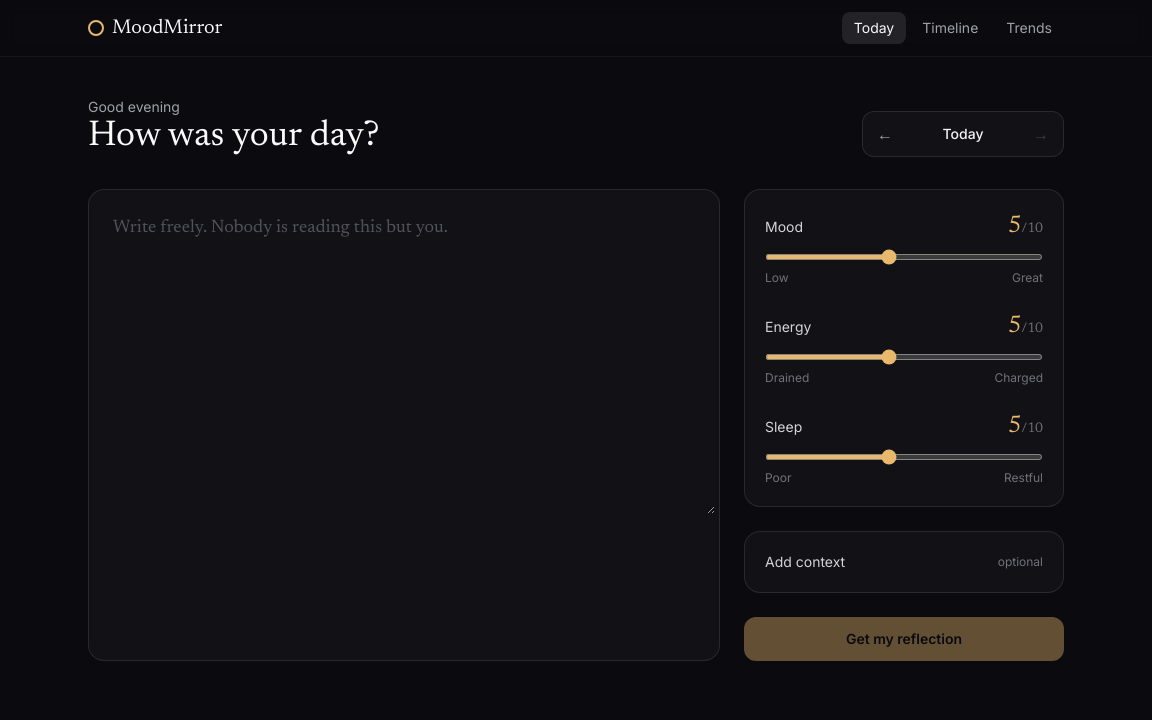
submit is disabled until something is written
This screenshot has width=1152, height=720.
Expected: the button "Get my reflection" is disabled, x1=744 y1=617 x2=1064 y2=661
Type "hello" into the text box named "Journal entry" at (404, 354), box x1=93 y1=194 x2=715 y2=514
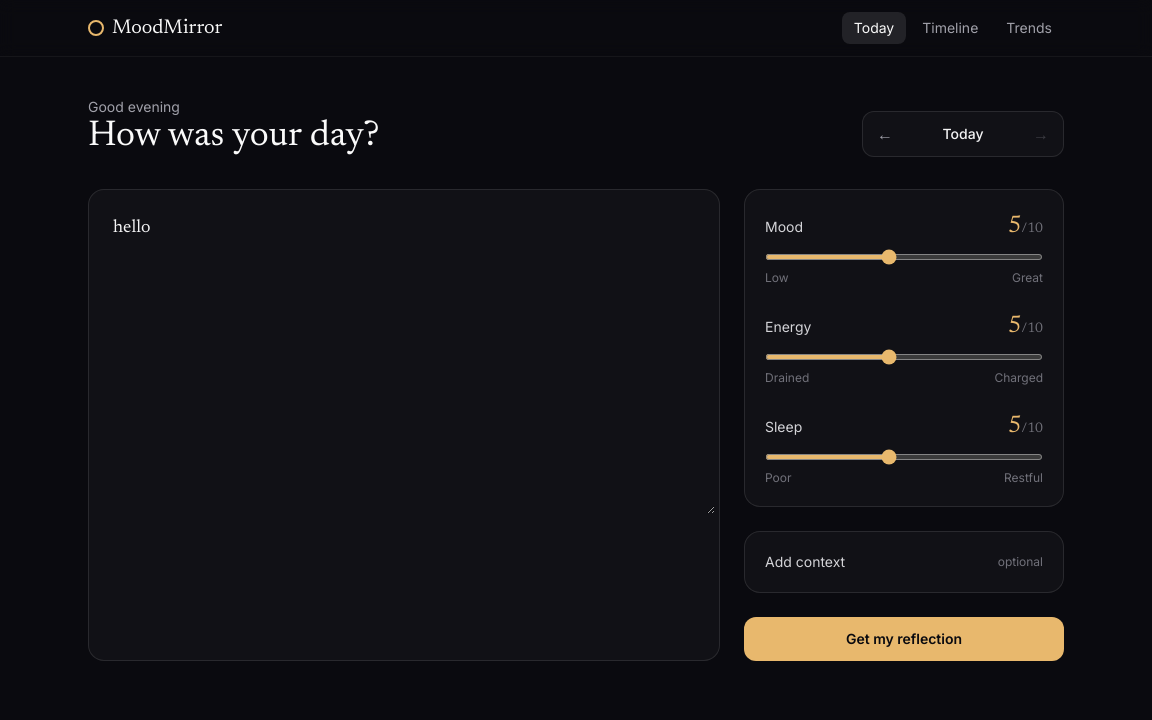
Now the button "Get my reflection" is enabled, box x1=744 y1=617 x2=1064 y2=661
